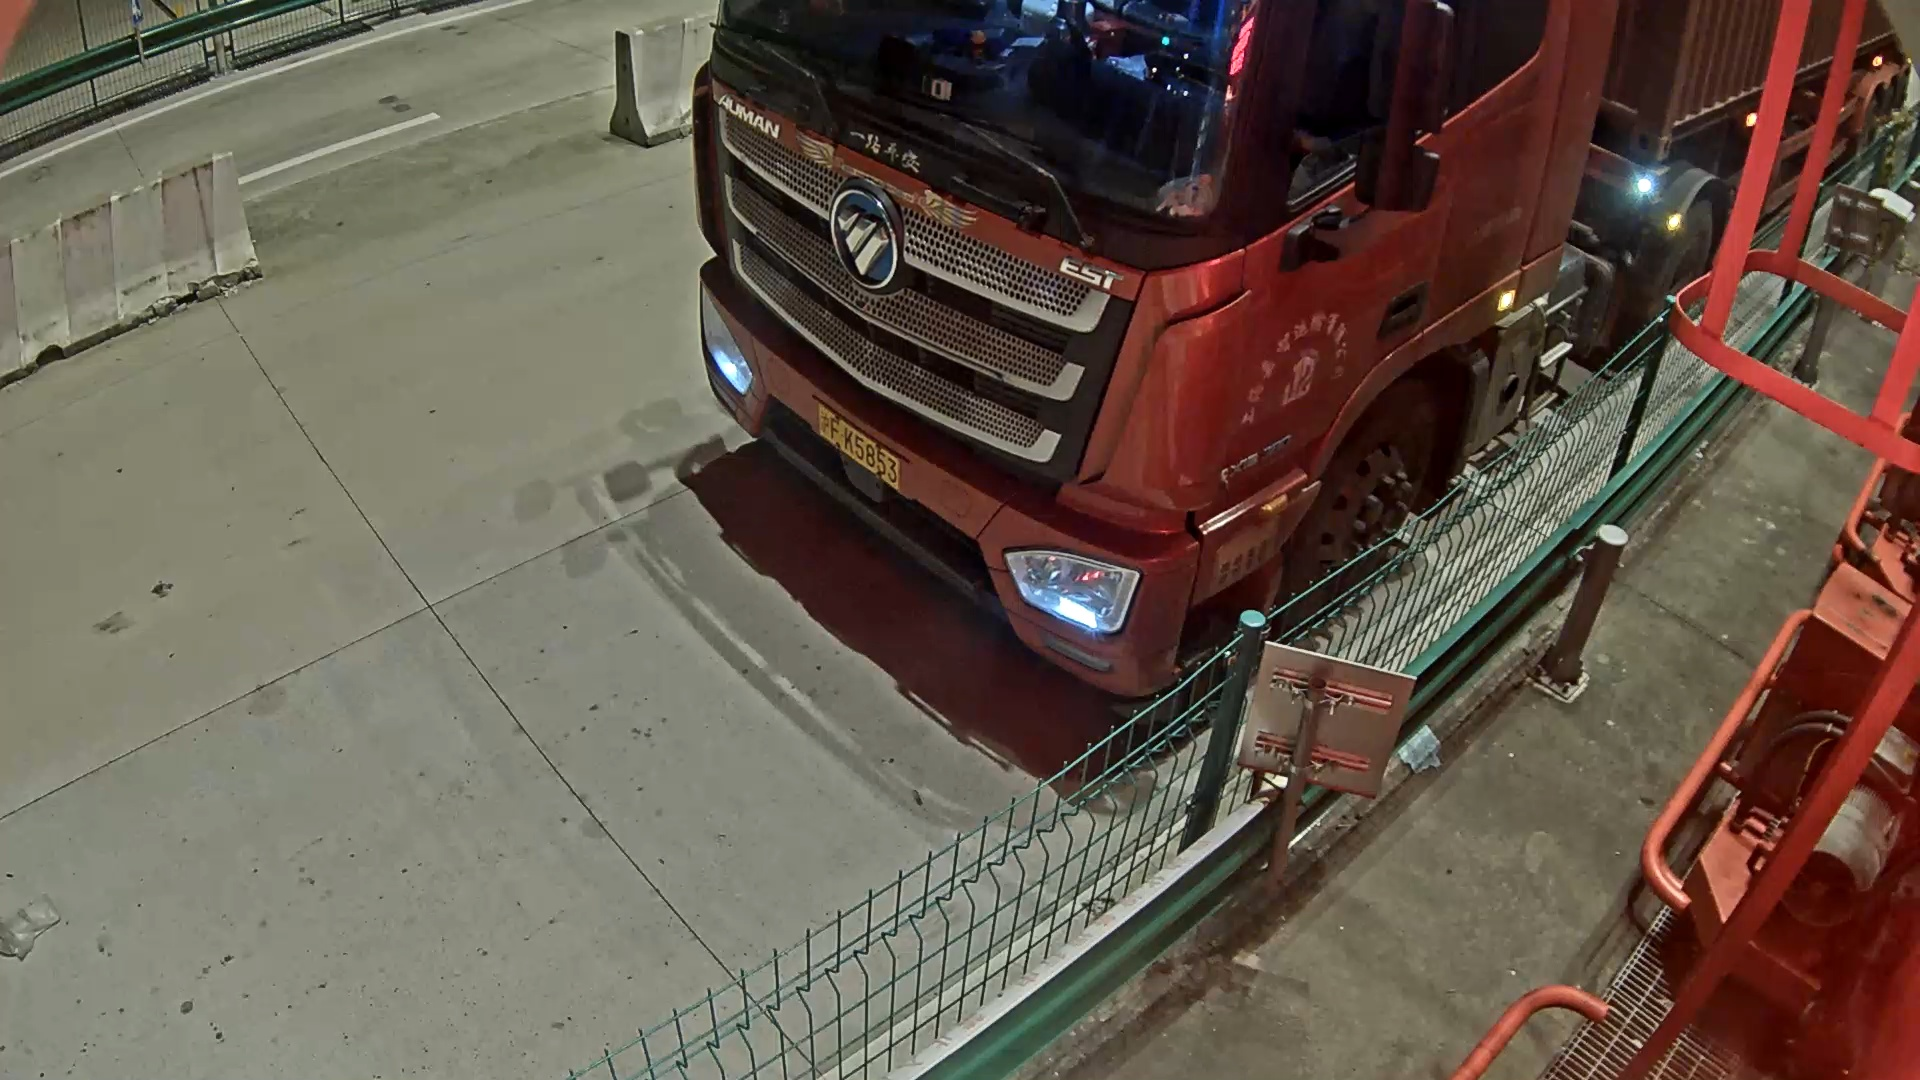head: (691, 1, 1608, 705)
plate: (815, 398, 899, 486)
